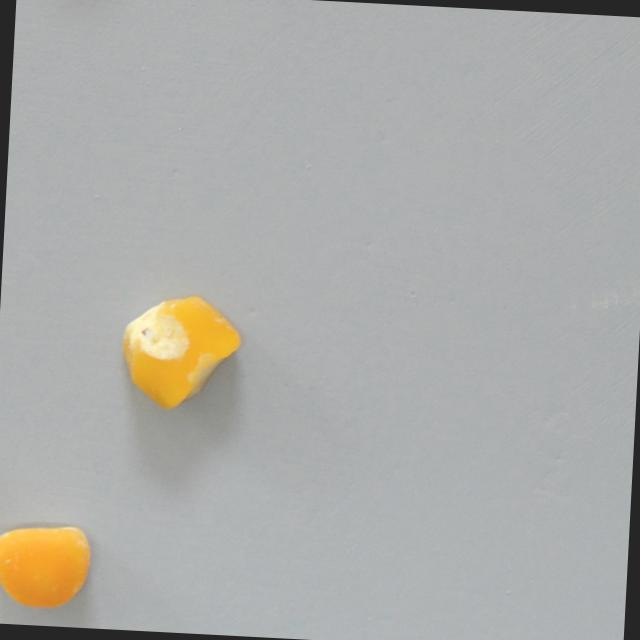dañado: (0, 517, 97, 613)
punto_negro: (114, 287, 248, 416)
